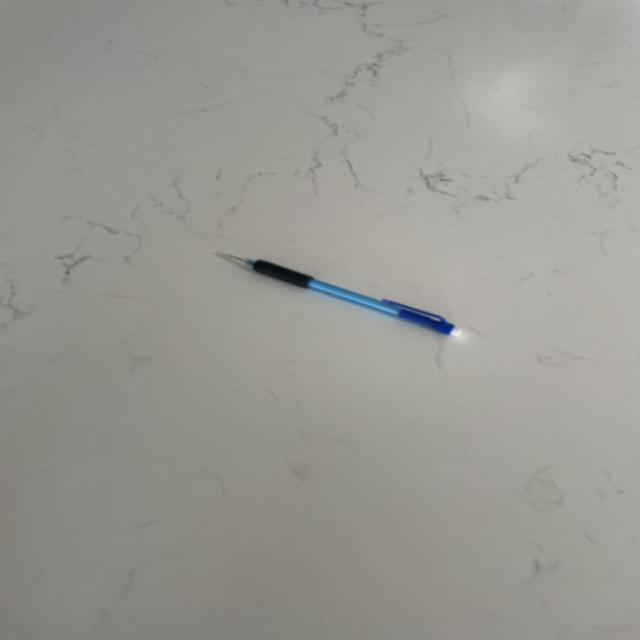mechanical-pencils: (220, 256, 469, 341)
